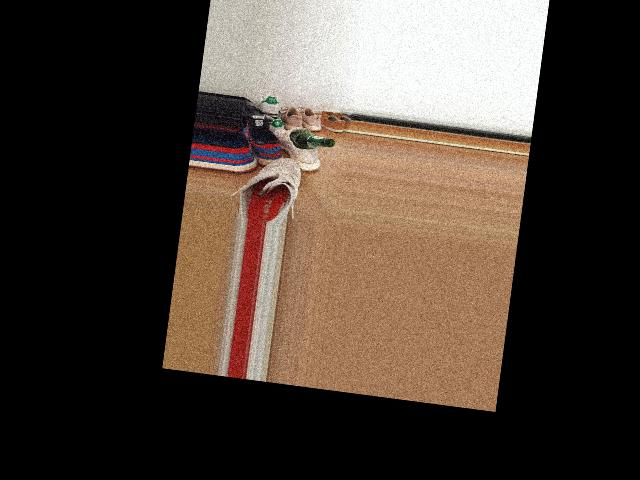beer: (288, 130, 336, 153)
